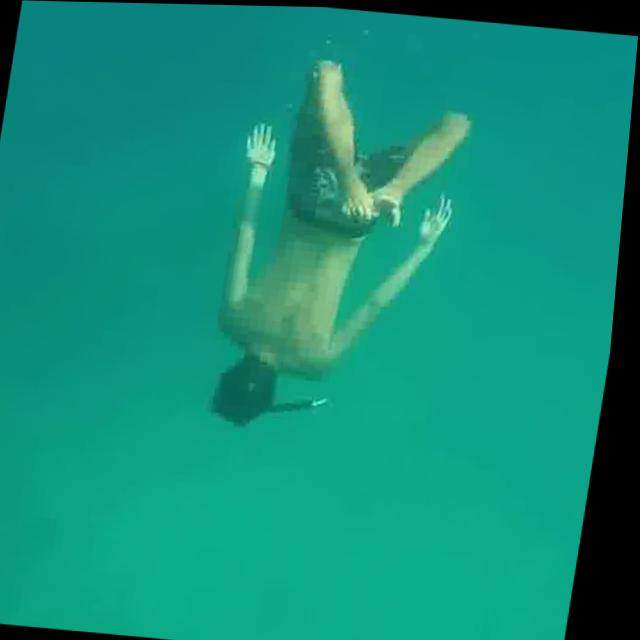human: (201, 44, 485, 448)
